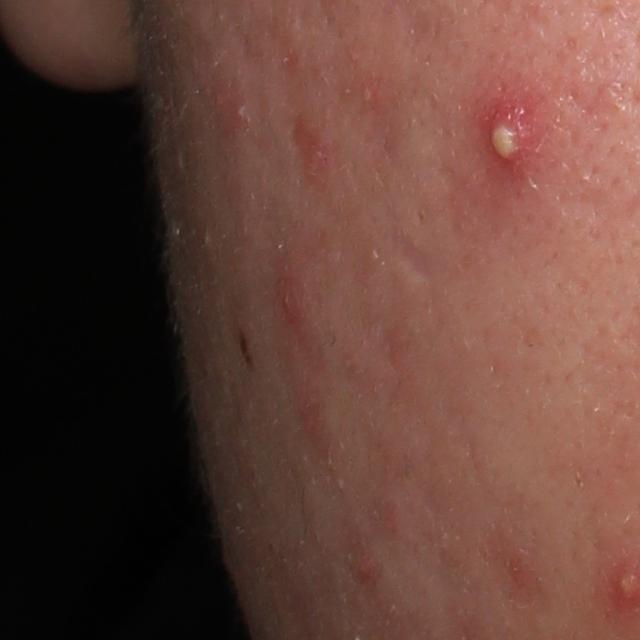atrophic_scar: (390, 224, 435, 285)
papule: (295, 113, 330, 186), (353, 561, 376, 588)
pustule: (468, 81, 546, 200)
